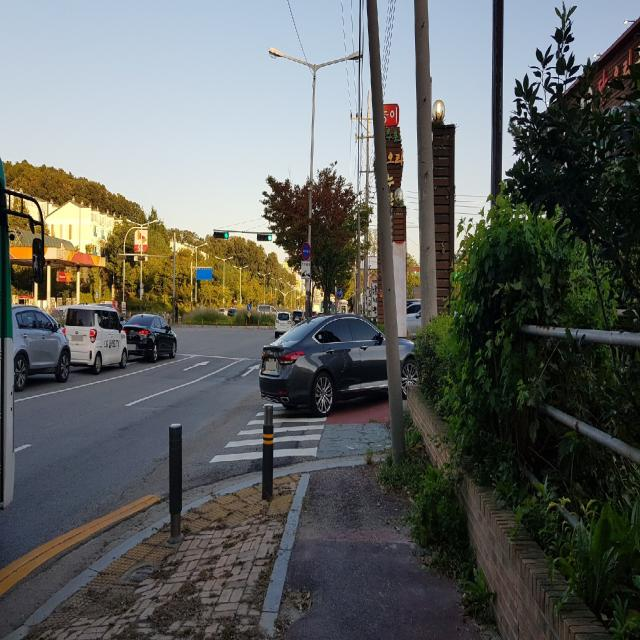횡단보도: (208, 402, 328, 465)
